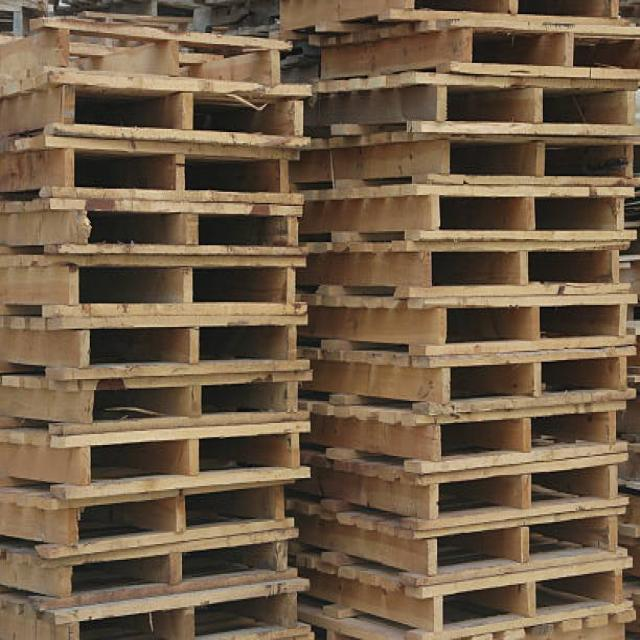Wooden-Pallets: (49, 66, 308, 152), (424, 499, 628, 596), (51, 527, 297, 603), (61, 423, 308, 496), (420, 399, 627, 479), (53, 199, 306, 262), (55, 316, 306, 376), (424, 286, 638, 356), (422, 184, 627, 250), (425, 81, 636, 133)
